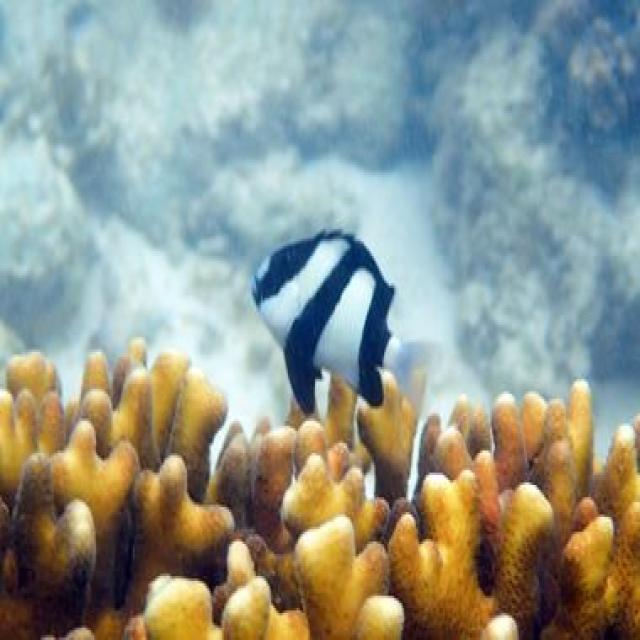ThreeStripedDamselfish: (249, 231, 435, 416)
